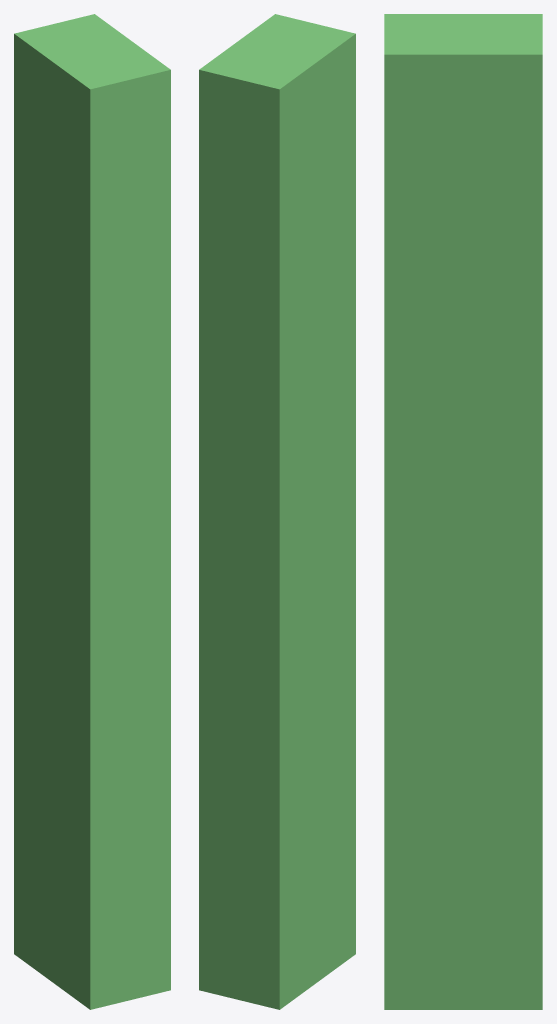
File: Bld3_Deco_Collumn.fbx
3 renders of one model, left to right at view 1: azimuth 30°, elevation 25°; view 2: azimuth 150°, elevation 25°; view 3: azimuth 270°, elevation 25°, orthographic. The views are drawn at different scales.
Visible parts, largest first — view 1: Bld3_Deco_Collumn; view 2: Bld3_Deco_Collumn; view 3: Bld3_Deco_Collumn.
Boxes of the visible parts, bbox=[...] form: Bld3_Deco_Collumn: bbox=[14, 14, 170, 1009]; Bld3_Deco_Collumn: bbox=[199, 14, 355, 1009]; Bld3_Deco_Collumn: bbox=[384, 14, 542, 1009].
Size of the model in its own units: 82.47 by 900 by 135.
